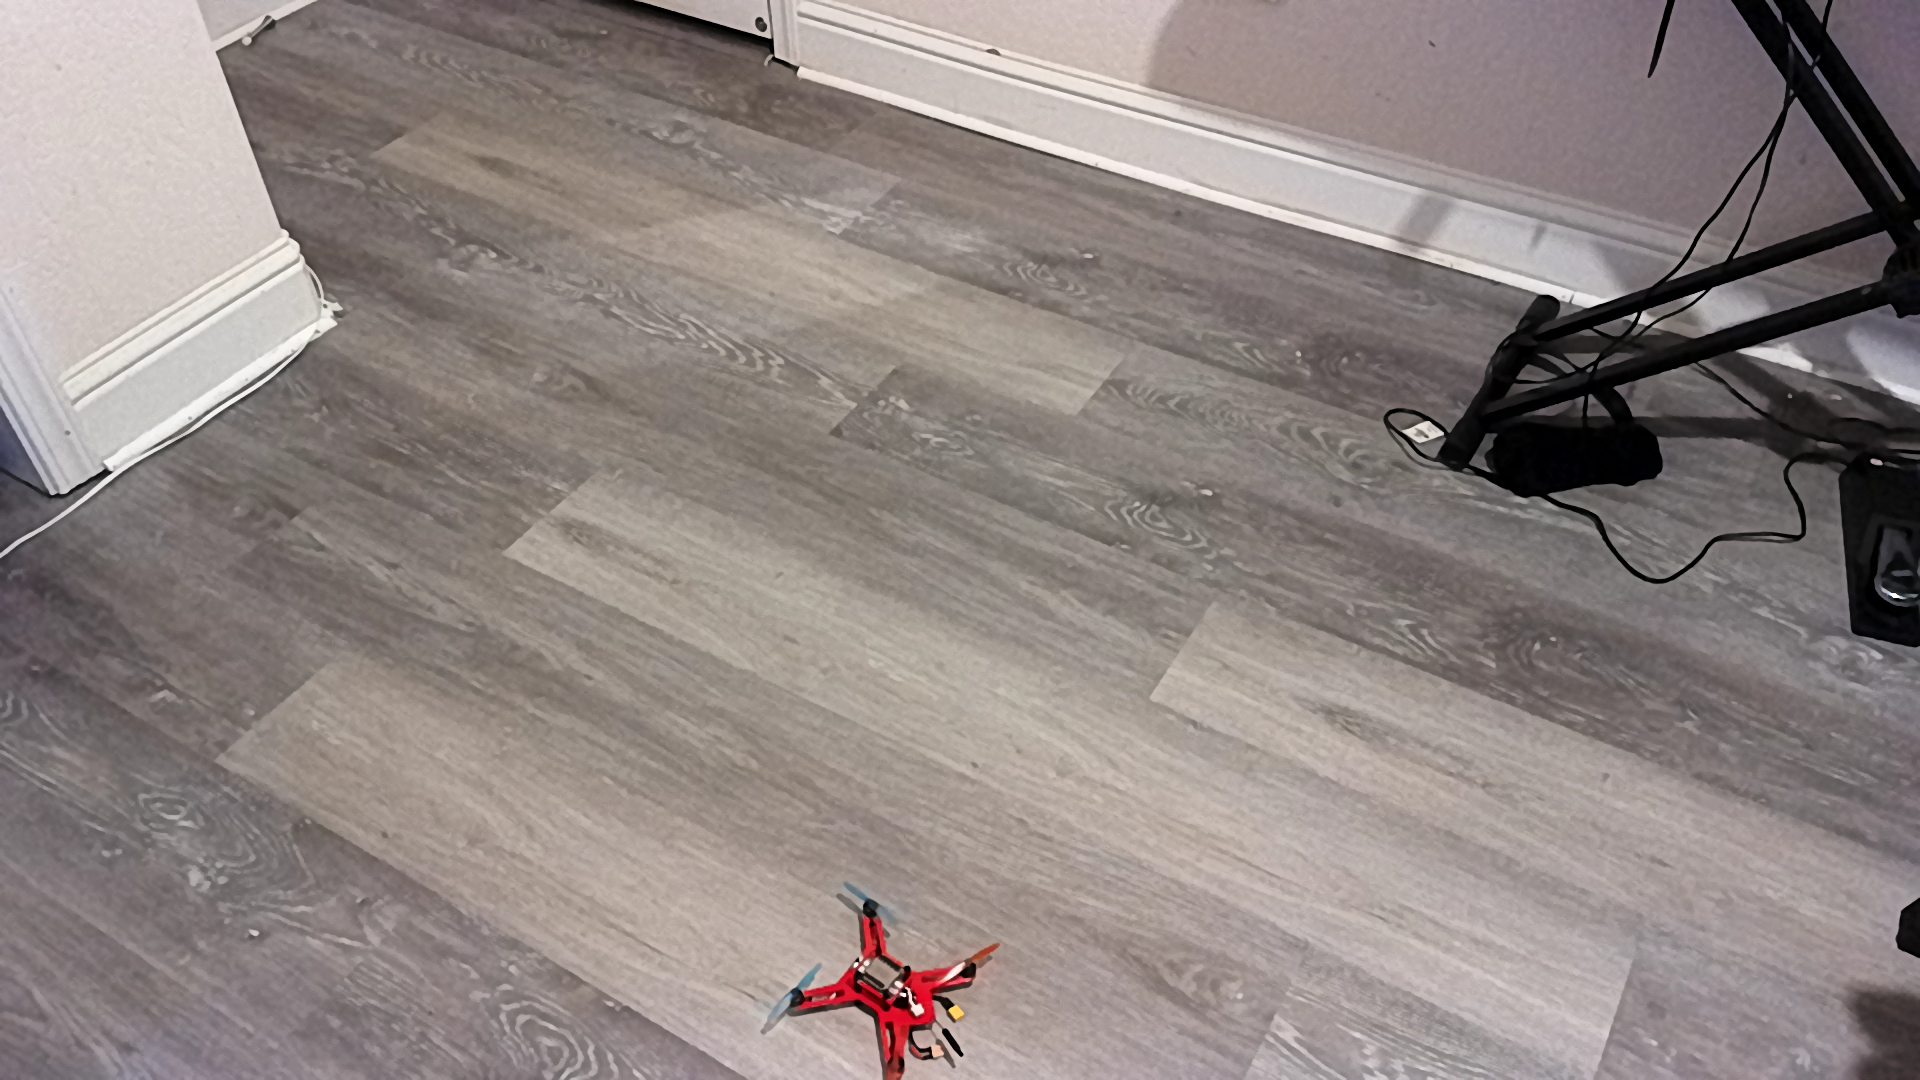drone: (770, 881, 1015, 1080)
